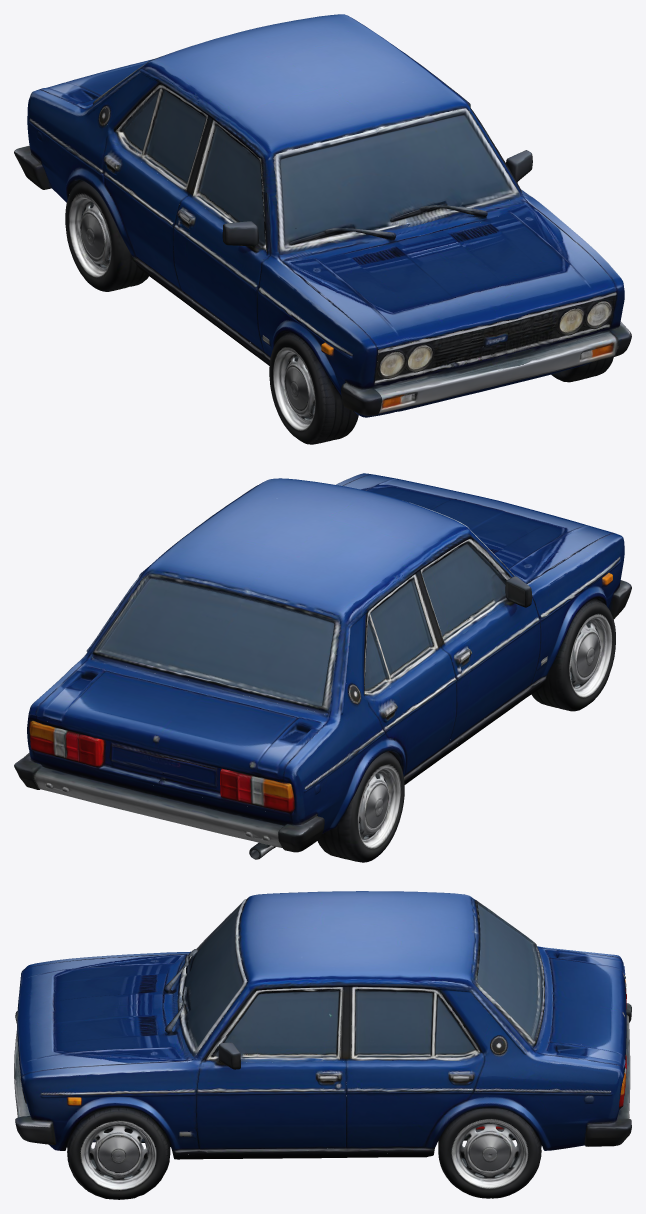
Rendered from tofas_murat_131.glb.
3 renders of one model, top to bottom at view 1: azimuth 30°, elevation 25°; view 2: azimuth 150°, elevation 25°; view 3: azimuth 270°, elevation 25°, orthographic. The views are drawn at different scales.
Parts seen in each view (by area): view 1: tripo_part_0, tripo_part_6, tripo_part_2, tripo_part_9, tripo_part_4, tripo_part_21, tripo_part_12, tripo_part_22, tripo_part_8, tripo_part_7, tripo_part_15, tripo_part_42 (+8 smaller); view 2: tripo_part_0, tripo_part_18, tripo_part_15, tripo_part_6, tripo_part_9, tripo_part_23, tripo_part_4, tripo_part_12, tripo_part_22, tripo_part_17, tripo_part_7, tripo_part_38 (+8 smaller); view 3: tripo_part_0, tripo_part_6, tripo_part_19, tripo_part_20, tripo_part_13, tripo_part_3, tripo_part_5, tripo_part_15, tripo_part_18, tripo_part_2, tripo_part_48, tripo_part_1 (+6 smaller).
Boxes of the visible parts, bbox=[...] form: tripo_part_0: bbox=[27, 14, 624, 417]; tripo_part_6: bbox=[284, 202, 617, 349]; tripo_part_2: bbox=[273, 108, 520, 254]; tripo_part_9: bbox=[173, 197, 269, 352]; tripo_part_4: bbox=[269, 332, 358, 444]; tripo_part_21: bbox=[375, 332, 617, 413]; tripo_part_12: bbox=[114, 83, 206, 190]; tripo_part_22: bbox=[192, 120, 266, 251]; tripo_part_8: bbox=[431, 310, 558, 374]; tripo_part_7: bbox=[65, 180, 148, 291]; tripo_part_15: bbox=[39, 59, 153, 107]; tripo_part_42: bbox=[103, 73, 158, 131]; tripo_part_0: bbox=[27, 473, 624, 833]; tripo_part_18: bbox=[92, 572, 341, 714]; tripo_part_15: bbox=[60, 671, 323, 779]; tripo_part_6: bbox=[344, 474, 612, 582]; tripo_part_9: bbox=[443, 596, 540, 744]; tripo_part_23: bbox=[64, 729, 260, 801]; tripo_part_4: bbox=[531, 598, 615, 711]; tripo_part_12: bbox=[364, 575, 435, 697]; tripo_part_22: bbox=[420, 538, 507, 645]; tripo_part_17: bbox=[35, 766, 283, 847]; tripo_part_7: bbox=[317, 751, 404, 862]; tripo_part_38: bbox=[222, 776, 294, 815]; tripo_part_0: bbox=[21, 891, 624, 1154]; tripo_part_6: bbox=[17, 954, 185, 1077]; tripo_part_19: bbox=[196, 1061, 346, 1149]; tripo_part_20: bbox=[353, 986, 482, 1061]; tripo_part_13: bbox=[209, 987, 342, 1062]; tripo_part_3: bbox=[67, 1107, 170, 1199]; tripo_part_5: bbox=[438, 1108, 541, 1198]; tripo_part_15: bbox=[545, 949, 625, 1064]; tripo_part_18: bbox=[472, 899, 544, 1049]; tripo_part_2: bbox=[177, 899, 247, 1057]; tripo_part_48: bbox=[442, 991, 501, 1049]; tripo_part_1: bbox=[93, 1126, 503, 1159].
Size of the model in its own units: 0.5126 by 0.3772 by 1.
1 material, 1 textured.
